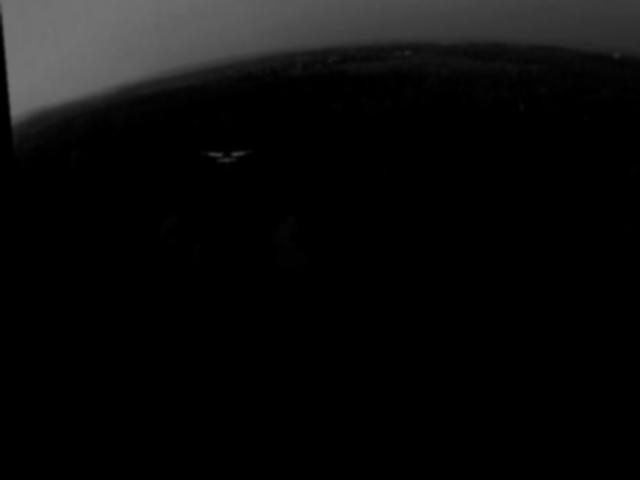hedef: (198, 144, 254, 178)
